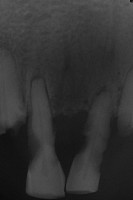Furcation Involvement: (50, 43, 122, 118), (30, 73, 47, 86)
